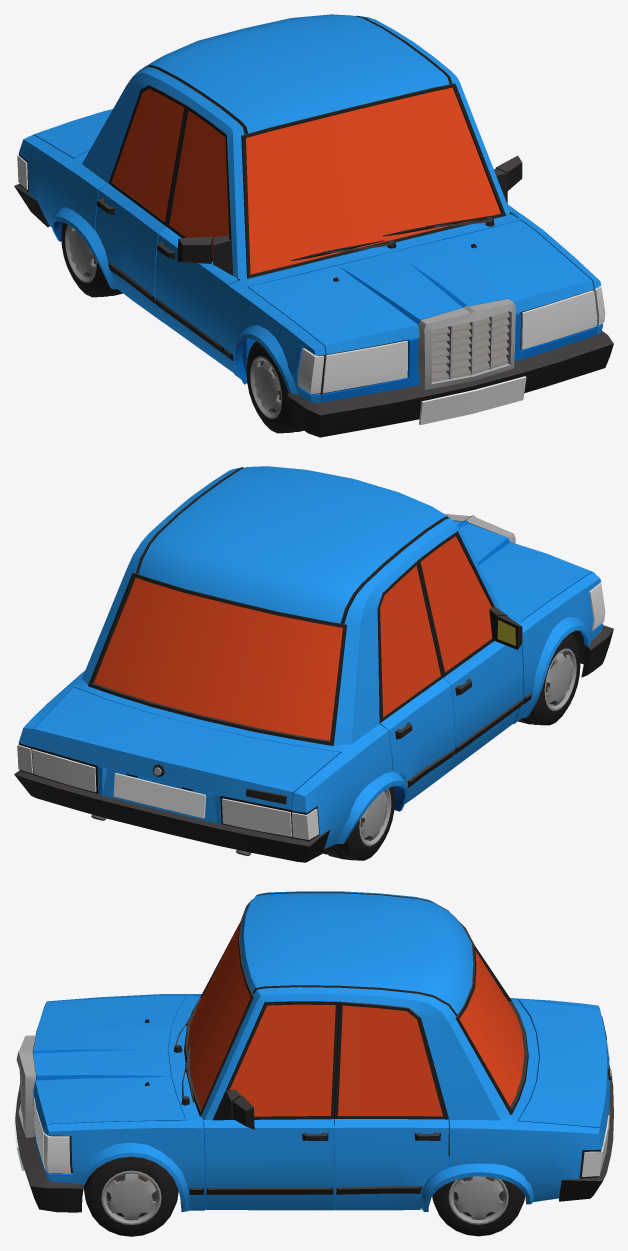
File: Sketchfab_2022_06_03_15_56_38.fbx
3 renders of one model, top to bottom at view 1: azimuth 30°, elevation 25°; view 2: azimuth 150°, elevation 25°; view 3: azimuth 270°, elevation 25°, orthographic. The views are drawn at different scales.
Parts seen in each view (by area): view 1: Body, Bonet, Doors_FR, Doors_RR, Bumper_F, FrontGrill, Fender_FR, Headlights_FR, Headlights_FL, Bootlid, rim.002, Wheel_FR (+6 smaller); view 2: Body, Bootlid, Doors_FR, Doors_RR, Bumper_R, Bonet, Fender_FR, Lights_RR, Lights_RL, rim.002, Wheel_FR, Wheel_RR (+4 smaller); view 3: Body, Doors_FL, Doors_RL, Bonet, Bootlid, Fender_FL, Wheel_FL, Bumper_F, rim, rim.001, Wheel_RL, FrontGrill (+4 smaller).
Boxes of the visible parts, bbox=[...] form: Body: bbox=[18, 14, 596, 402]; Bonet: bbox=[248, 220, 593, 354]; Doors_FR: bbox=[155, 105, 240, 372]; Doors_RR: bbox=[96, 85, 186, 323]; Bumper_F: bbox=[287, 331, 613, 437]; FrontGrill: bbox=[418, 299, 515, 389]; Fender_FR: bbox=[224, 280, 325, 402]; Headlights_FR: bbox=[321, 339, 408, 393]; Headlights_FL: bbox=[520, 290, 597, 349]; Bootlid: bbox=[34, 109, 112, 158]; rim.002: bbox=[250, 356, 282, 418]; Wheel_FR: bbox=[246, 341, 312, 433]; Body: bbox=[18, 466, 520, 855]; Bootlid: bbox=[32, 687, 340, 809]; Doors_FR: bbox=[418, 532, 523, 774]; Doors_RR: bbox=[377, 560, 454, 803]; Bumper_R: bbox=[14, 770, 329, 862]; Bonet: bbox=[453, 520, 592, 621]; Fender_FR: bbox=[513, 572, 602, 723]; Lights_RR: bbox=[220, 796, 319, 841]; Lights_RL: bbox=[17, 743, 98, 793]; rim.002: bbox=[544, 648, 576, 710]; Wheel_FR: bbox=[518, 633, 580, 725]; Wheel_RR: bbox=[323, 786, 394, 860]; Body: bbox=[33, 891, 609, 1211]; Doors_FL: bbox=[203, 1001, 339, 1210]; Doors_RL: bbox=[334, 1001, 448, 1210]; Bonet: bbox=[33, 995, 185, 1130]; Bootlid: bbox=[518, 998, 612, 1141]; Fender_FL: bbox=[43, 1120, 205, 1211]; Wheel_FL: bbox=[84, 1156, 178, 1236]; Bumper_F: bbox=[14, 1083, 84, 1212]; rim: bbox=[101, 1170, 161, 1225]; rim.001: bbox=[448, 1176, 508, 1224]; Wheel_RL: bbox=[432, 1179, 524, 1236]; FrontGrill: bbox=[16, 1035, 35, 1137].
Size of the model in its own units: 131 by 94.57 by 213.
